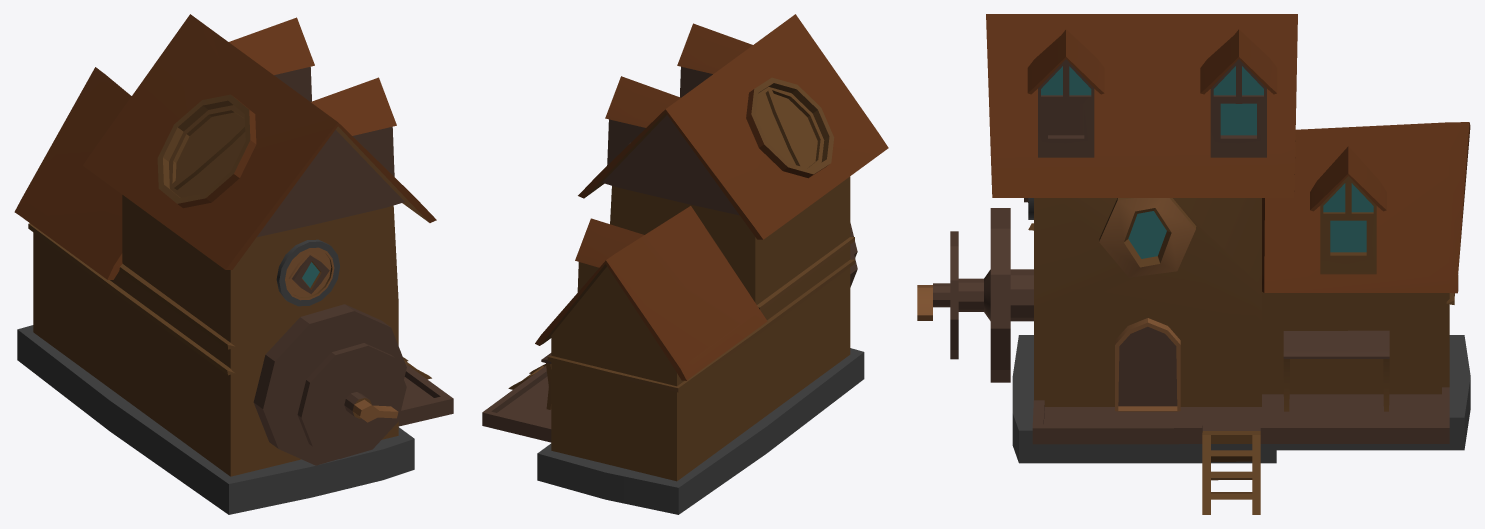
File: Mill.fbx
3 renders of one model, left to right at view 1: azimuth 30°, elevation 25°; view 2: azimuth 150°, elevation 25°; view 3: azimuth 270°, elevation 25°, orthographic. The views are drawn at different scales.
Visible parts, largest first — view 1: Plane.002; view 2: Plane.002; view 3: Plane.002.
Part boxes in pixels (x1,y1,x2,y2): Plane.002: (14,14,453,514); Plane.002: (482,14,888,514); Plane.002: (917,14,1470,514).
Bounding box in the file's own units: 606 × 721 × 900.
